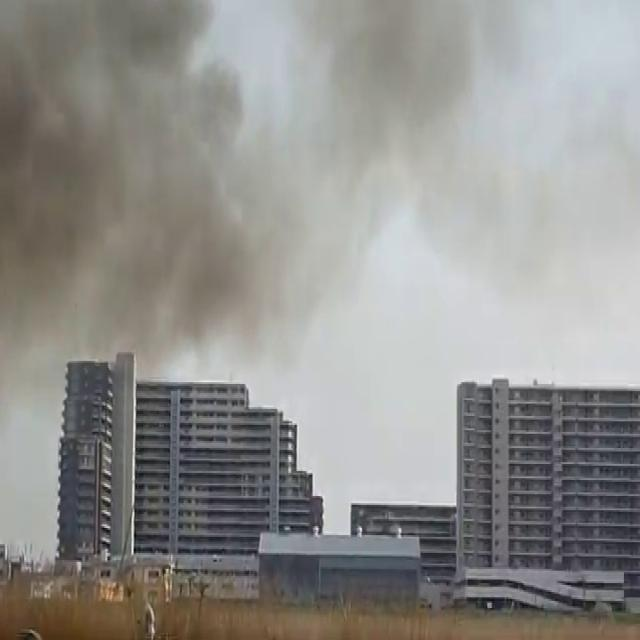Smoke: (1, 1, 582, 397)
